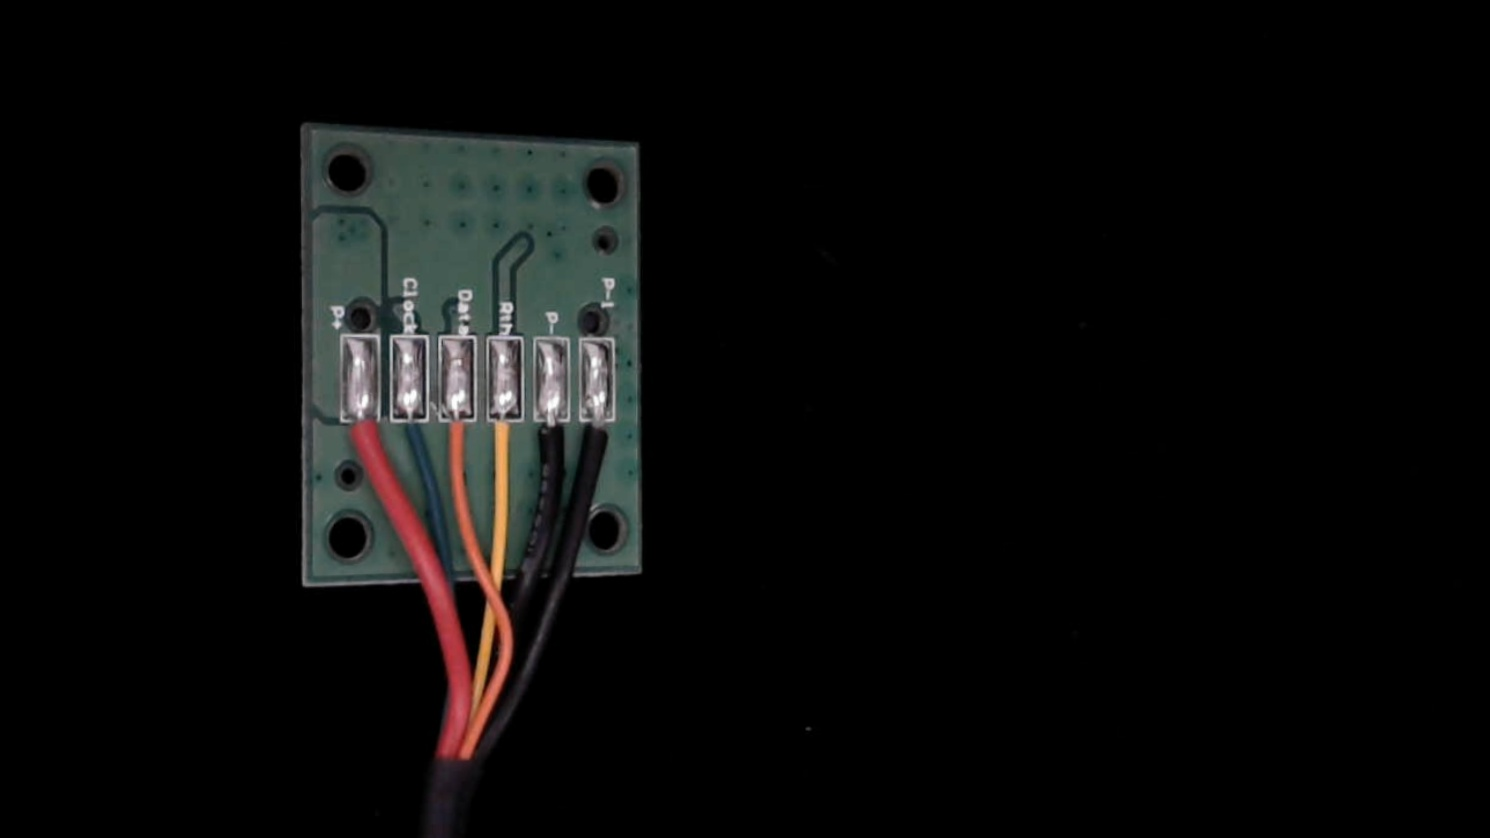Black: (529, 391, 571, 489)
Black1: (580, 395, 620, 485)
Green: (392, 387, 431, 469)
Orange: (440, 388, 479, 485)
Red: (340, 394, 379, 477)
Yellow: (485, 390, 526, 489)
